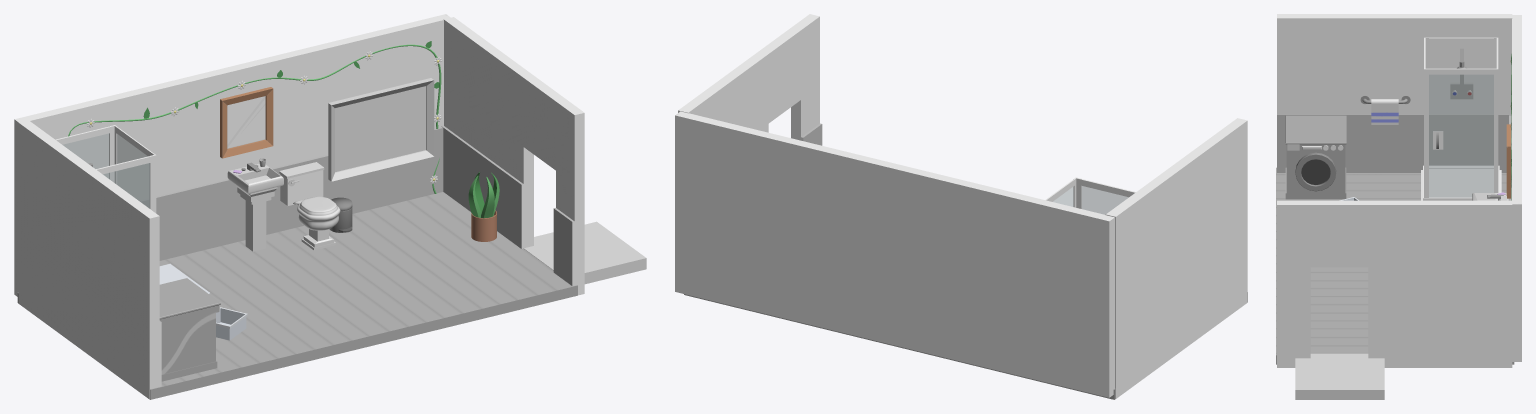
File: bathroom sized.fbx
3 views of the same model, side by side, from view 1: azimuth 30°, elevation 25°; view 2: azimuth 150°, elevation 25°; view 3: azimuth 270°, elevation 25° (orthographic). The views are drawn at different scales.
Parts seen in each view (by area): view 1: pCube2, pCube1, pCube3, pCube4, pCube22, pCube81, pCube86, pCube37, pCube32, pCube36, pCube31, pCube34 (+3 smaller); view 2: pCube2, pCube3, pCube4, pCube86, pCube1; view 3: pCube4, pCube3, pCube86, pCube1, pCube81, pCube32, pCube2, pCube83, pCube37.
Part boxes in pixels (bbox=[...]): pCube2: bbox=[14, 14, 450, 296]; pCube1: bbox=[17, 192, 577, 399]; pCube3: bbox=[18, 120, 161, 399]; pCube4: bbox=[441, 17, 584, 295]; pCube22: bbox=[328, 78, 434, 181]; pCube81: bbox=[159, 278, 220, 381]; pCube86: bbox=[55, 125, 156, 213]; pCube37: bbox=[220, 87, 273, 158]; pCube32: bbox=[524, 221, 646, 284]; pCube36: bbox=[227, 163, 283, 251]; pCube31: bbox=[279, 162, 324, 205]; pCube34: bbox=[293, 196, 340, 230]; pCube2: bbox=[675, 111, 1114, 397]; pCube3: bbox=[1105, 118, 1247, 398]; pCube4: bbox=[678, 14, 822, 145]; pCube86: bbox=[1045, 177, 1135, 214]; pCube1: bbox=[684, 292, 1247, 399]; pCube4: bbox=[1277, 200, 1512, 367]; pCube3: bbox=[1277, 14, 1512, 172]; pCube86: bbox=[1421, 37, 1501, 200]; pCube1: bbox=[1276, 167, 1514, 364]; pCube81: bbox=[1285, 115, 1346, 199]; pCube32: bbox=[1295, 353, 1384, 399]; pCube2: bbox=[1509, 15, 1521, 361]; pCube83: bbox=[1360, 95, 1410, 124]; pCube37: bbox=[1506, 124, 1510, 198].
Size of the model in its own units: 14.09 by 4.83 by 6.58.
39 materials, 31 textured.
